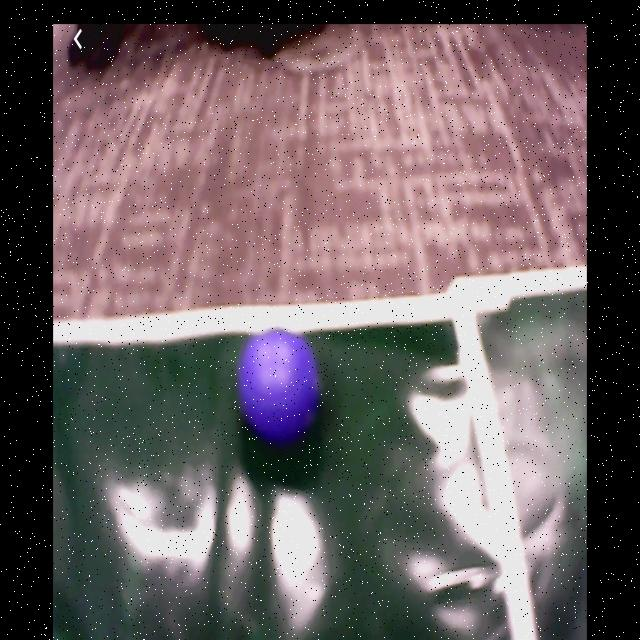ball: (242, 331, 315, 437)
